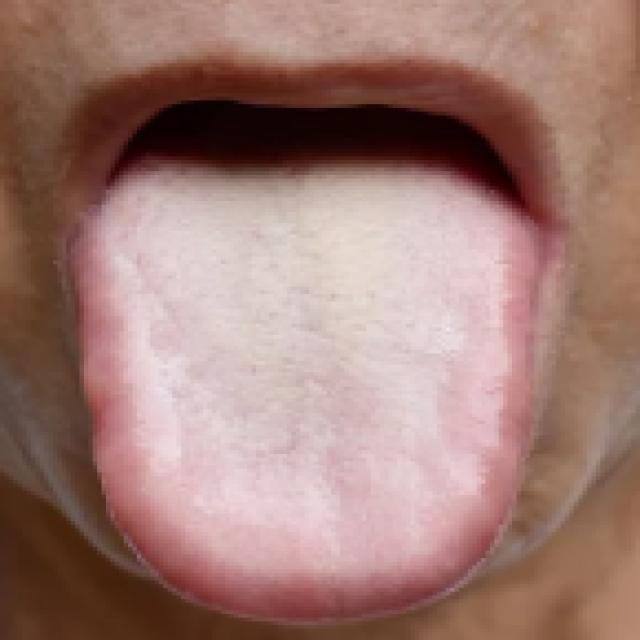No Cancer: (120, 85, 545, 316)
